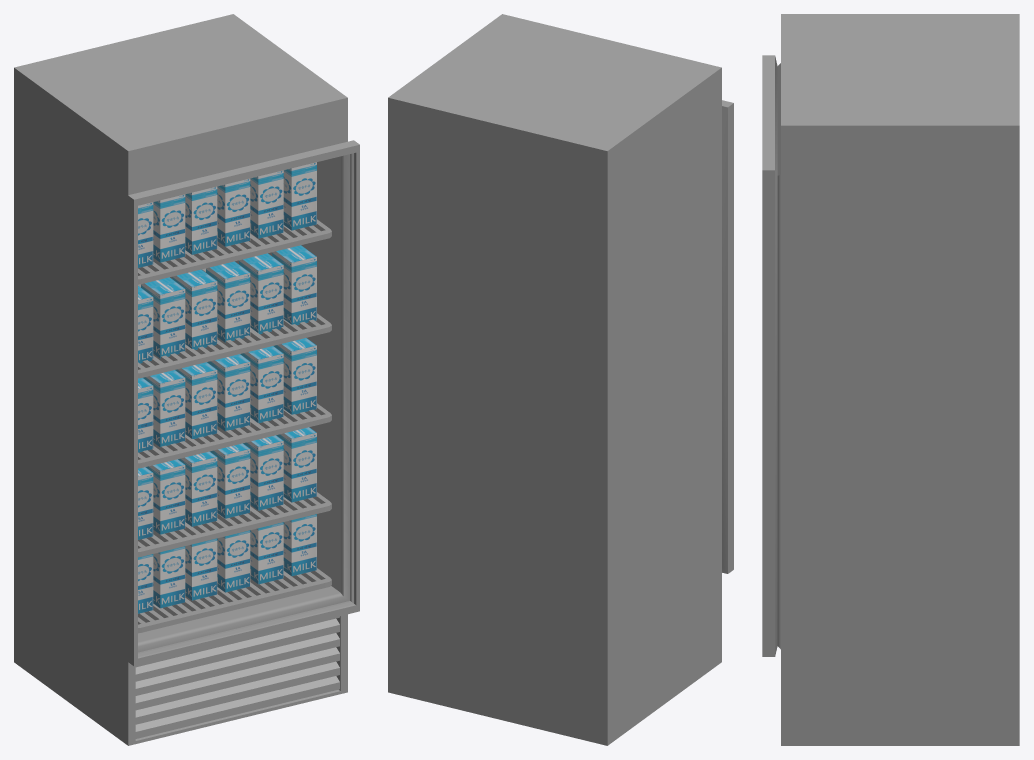
The model's file is milk.FBX.
3 renders of one model, left to right at view 1: azimuth 30°, elevation 25°; view 2: azimuth 150°, elevation 25°; view 3: azimuth 270°, elevation 25°, orthographic. The views are drawn at different scales.
Visible parts, largest first — view 1: pCube14, Box0022, Box0023, Box0024, Box0020, Box0021, Box0016, Box0017, Box0018, Box0014, Box0015, Box0010 (+19 smaller); view 2: pCube14; view 3: pCube14.
Part boxes in pixels (<box>): pCube14: <box>14,14,359,745</box>; Box0022: <box>206,261,250,342</box>; Box0023: <box>239,253,283,334</box>; Box0024: <box>272,245,316,325</box>; Box0020: <box>141,277,185,358</box>; Box0021: <box>172,269,217,349</box>; Box0016: <box>207,354,250,431</box>; Box0017: <box>240,346,283,423</box>; Box0018: <box>274,338,316,414</box>; Box0014: <box>143,370,185,447</box>; Box0015: <box>175,362,217,438</box>; Box0010: <box>210,443,250,518</box>; pCube14: <box>388,14,733,745</box>; pCube14: <box>762,14,1019,745</box>.
Size of the model in its own units: 101 by 254 by 95.43.
